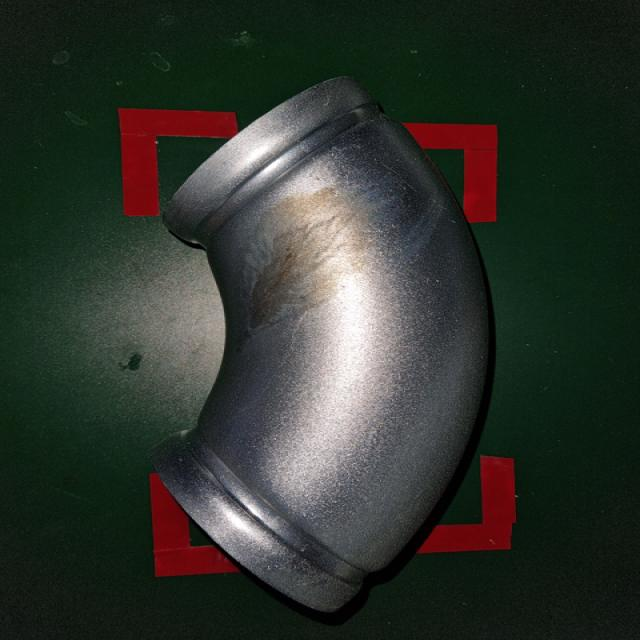Burn: (235, 192, 381, 331)
Defect: (150, 70, 507, 623)
